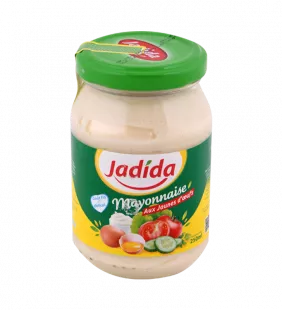JADIDA: (60, 20, 220, 284)
